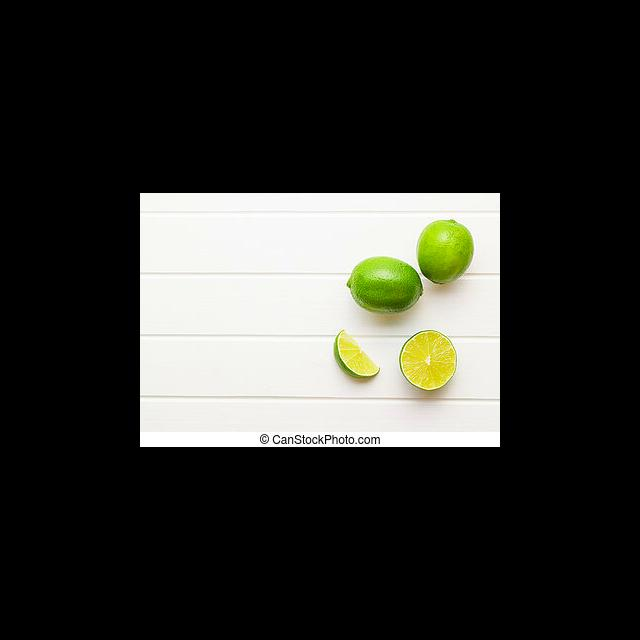lime: (344, 253, 426, 317), (412, 215, 475, 287)
